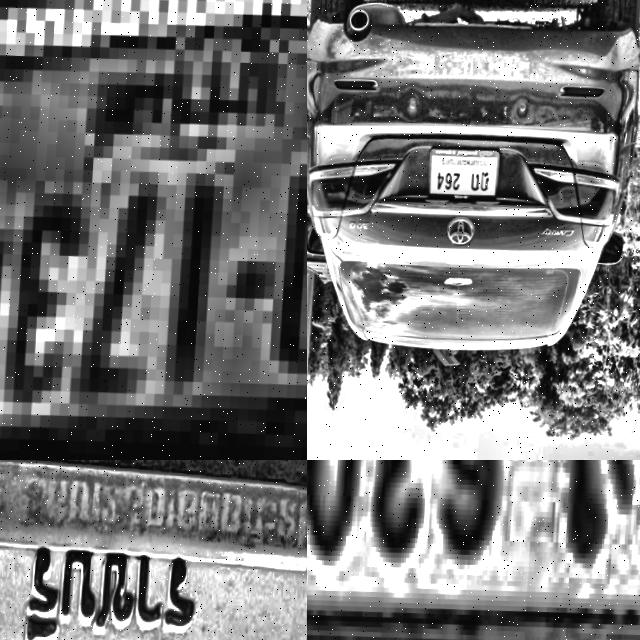license-plate: (0, 0, 307, 460), (307, 460, 640, 640), (0, 460, 307, 640), (423, 135, 506, 208)
